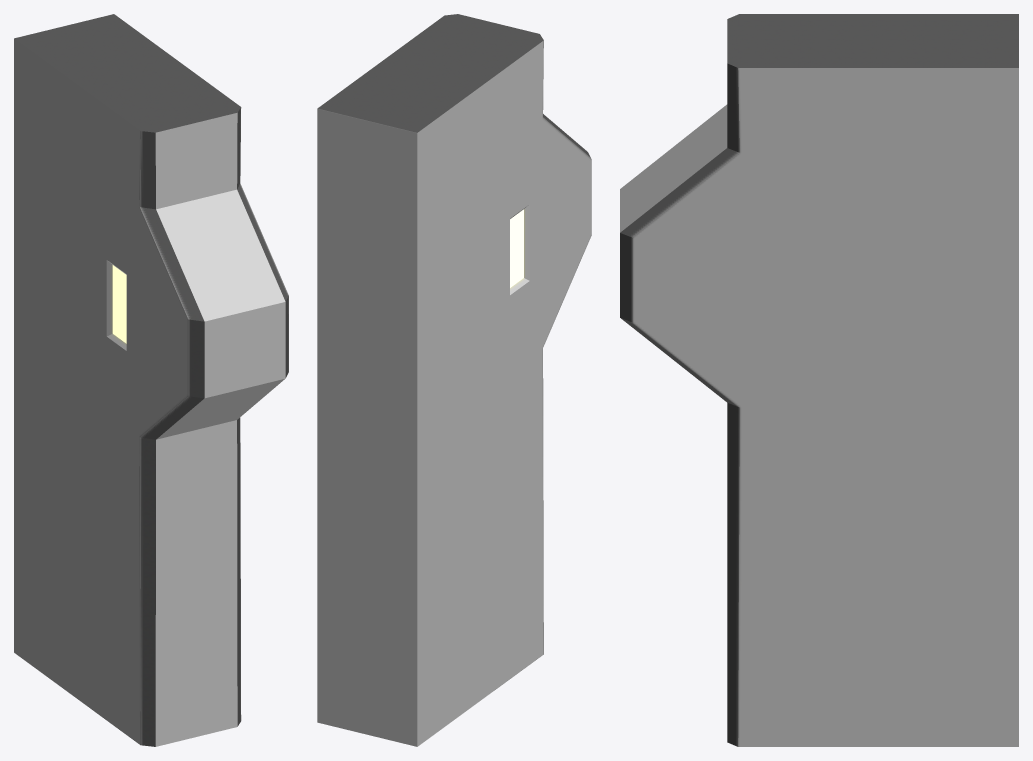
Rendered from Parking_Door_02.fbx.
The picture shows the model from 3 angles, left to right: view 1: azimuth 30°, elevation 25°; view 2: azimuth 150°, elevation 25°; view 3: azimuth 270°, elevation 25°; orthographic projection. The views are drawn at different scales.
Visible parts, largest first — view 1: Parking_Door_02; view 2: Parking_Door_02; view 3: Parking_Door_02.
Boxes of the visible parts, x1=… form: Parking_Door_02: x1=14, y1=14, x2=288, y2=746; Parking_Door_02: x1=317, y1=14, x2=591, y2=746; Parking_Door_02: x1=620, y1=14, x2=1018, y2=746.
Size of the model in its own units: 154 by 901 by 480.
